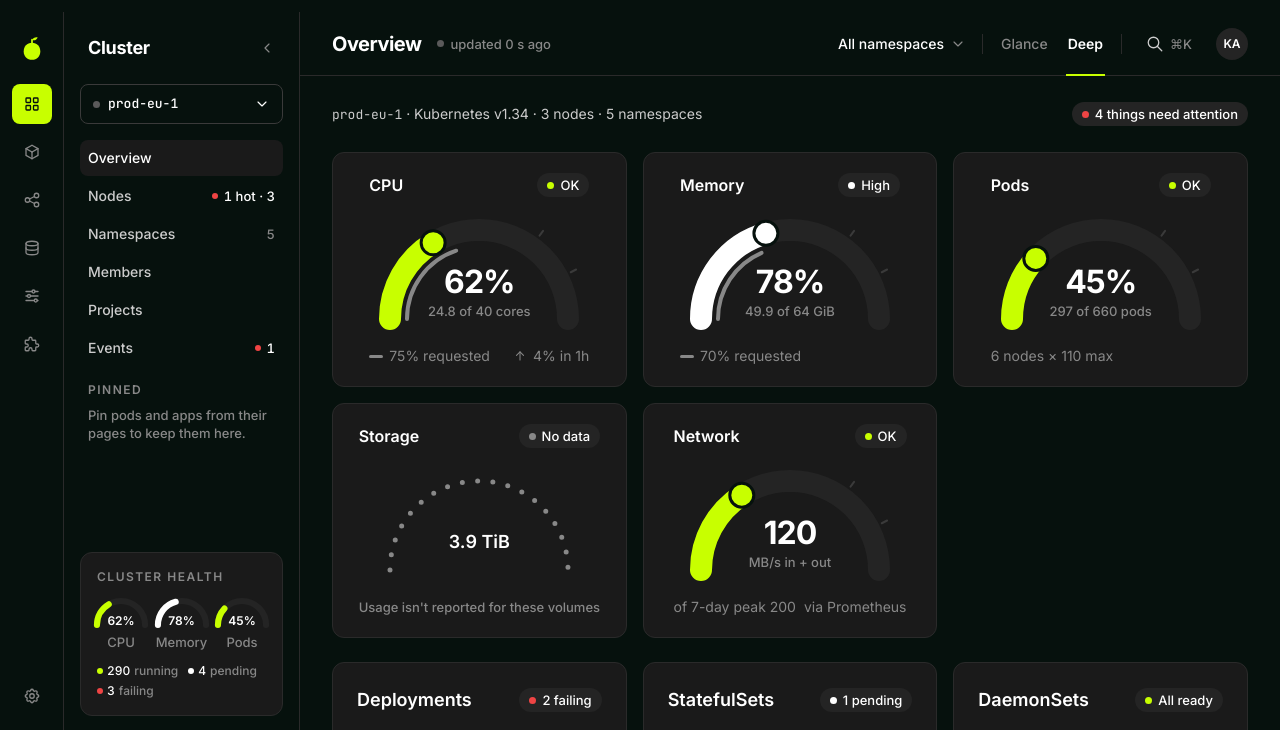
Test: Glance / Deep toggle › switches the rail and panel, keeps the gauges, and remembers the mode
Click the button "Glance" at (1024, 44), box x1=999 y1=12 x2=1050 y2=75
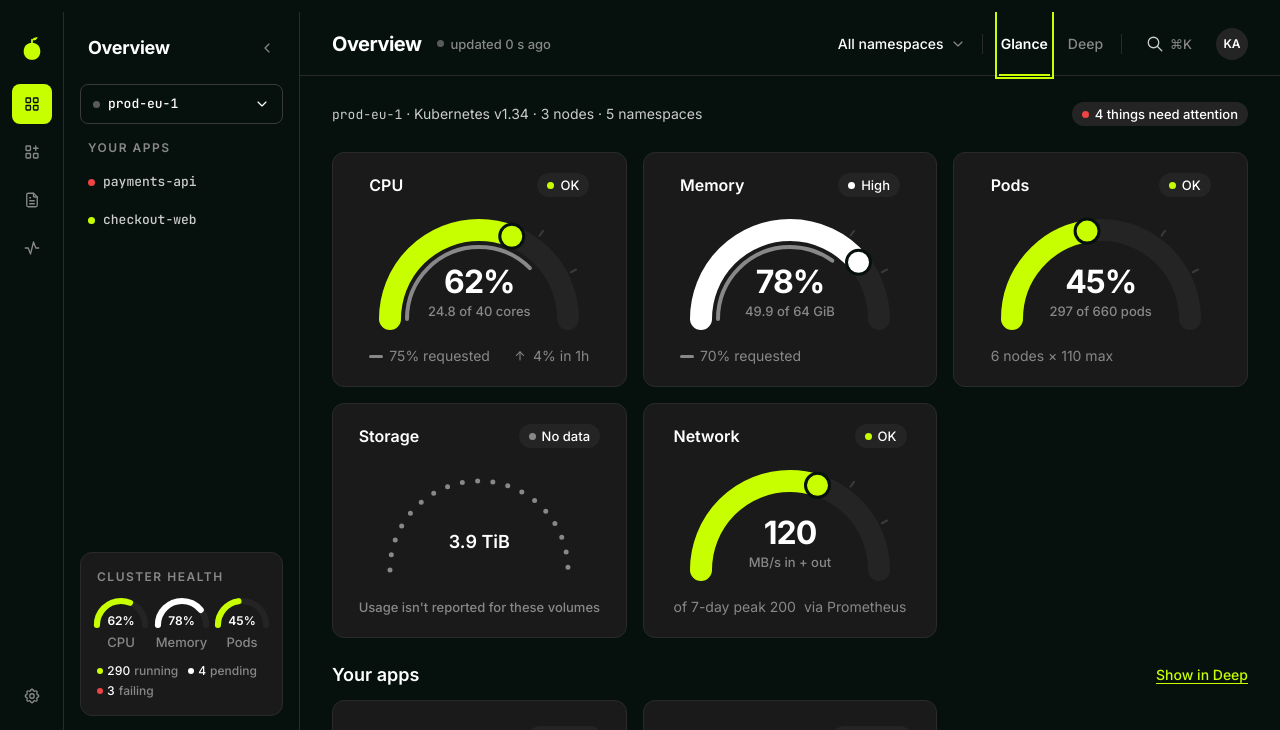
expect the element "Cluster health" is shown: met, box x1=80 y1=552 x2=283 y2=716
expect the link named "payments-api, failing" is shown: met, box x1=87 y1=173 x2=197 y2=200
expect the link named "checkout-web, healthy" is shown: met, box x1=87 y1=211 x2=197 y2=238
